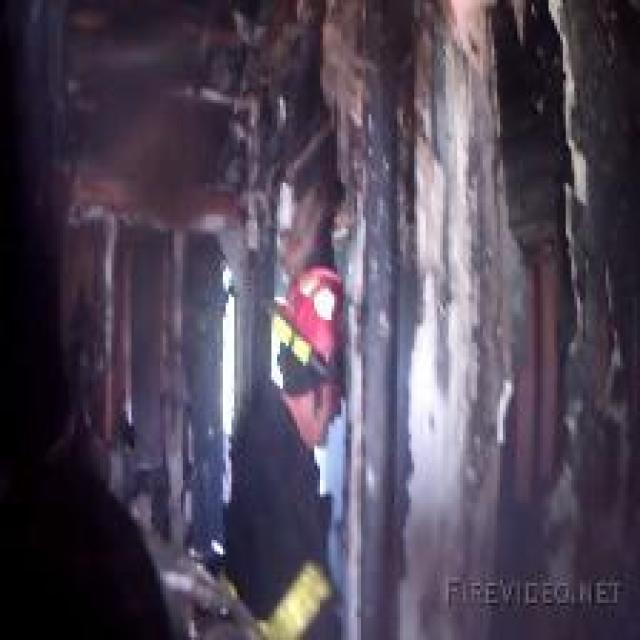other: (220, 542, 344, 630), (259, 282, 351, 387)
